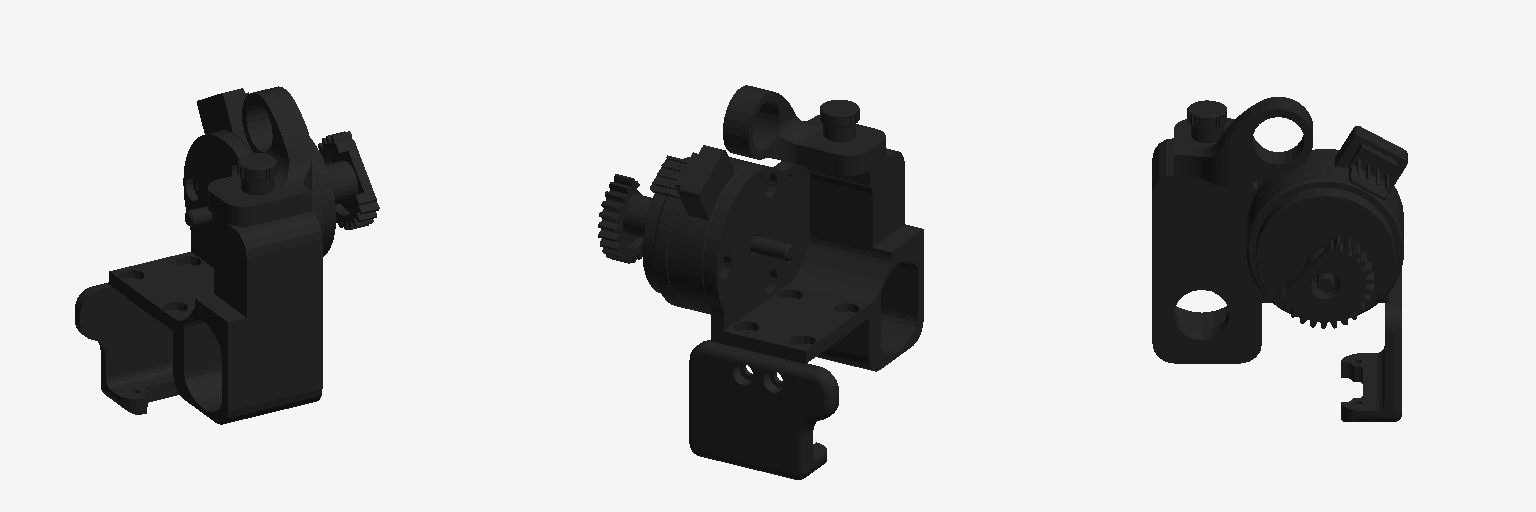
The model's file is needle_driver_link.OBJ.
The picture shows the model from 3 angles: view 1: azimuth 30°, elevation 25°; view 2: azimuth 150°, elevation 25°; view 3: azimuth 270°, elevation 25°; orthographic projection.
Parts seen in each view (by area): view 1: /ambf/env/neuro_robot/needle_driver_link_needle_driver_link; view 2: /ambf/env/neuro_robot/needle_driver_link_needle_driver_link; view 3: /ambf/env/neuro_robot/needle_driver_link_needle_driver_link.
Part boxes in pixels (x1,y1,x2,y2): /ambf/env/neuro_robot/needle_driver_link_needle_driver_link: (75,86,379,424); /ambf/env/neuro_robot/needle_driver_link_needle_driver_link: (598,85,923,479); /ambf/env/neuro_robot/needle_driver_link_needle_driver_link: (1152,97,1407,421).
Size of the model in its own units: 0.065 by 0.0809 by 0.0582.